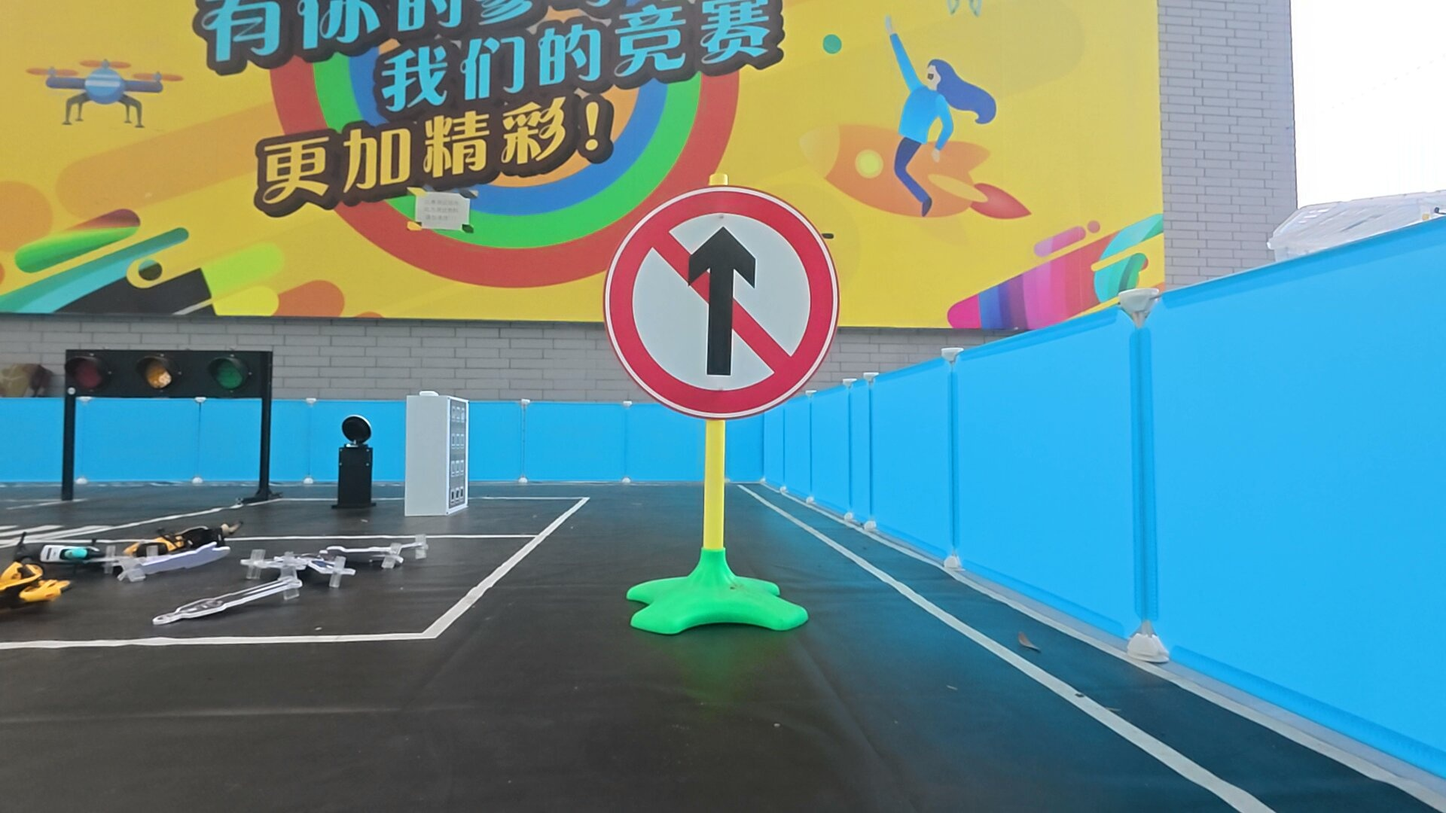obstacle: (598, 179, 844, 423)
